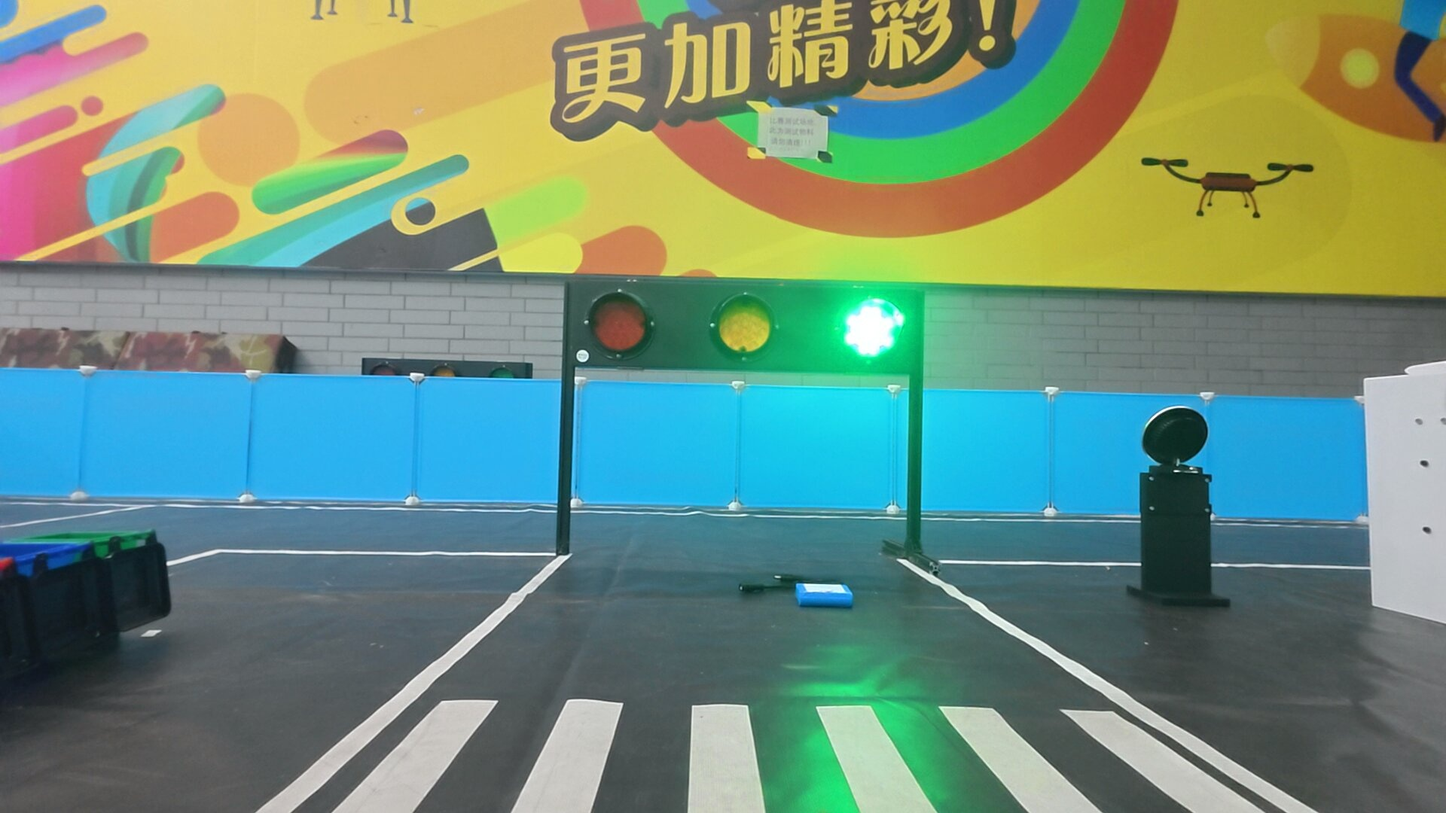go: (837, 291, 911, 367)
